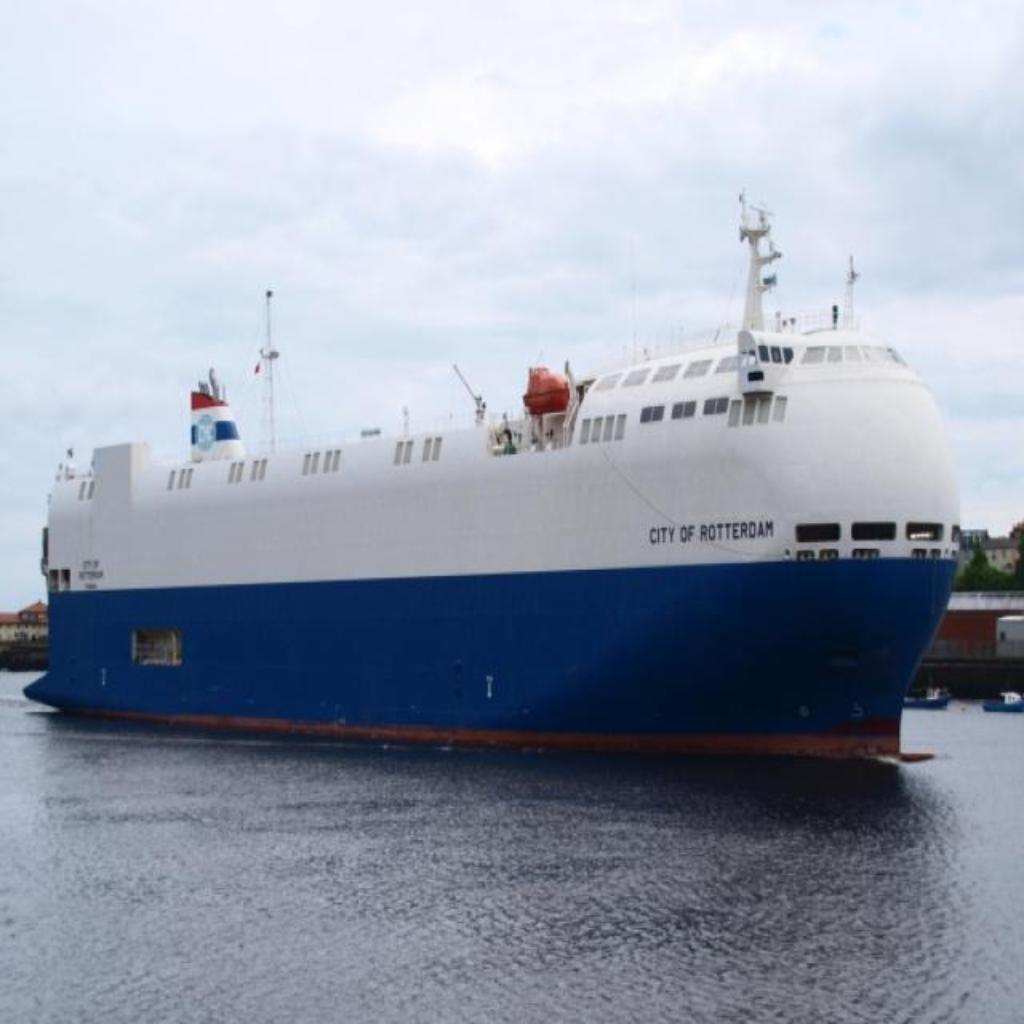PassengerShip: (21, 156, 973, 800)
